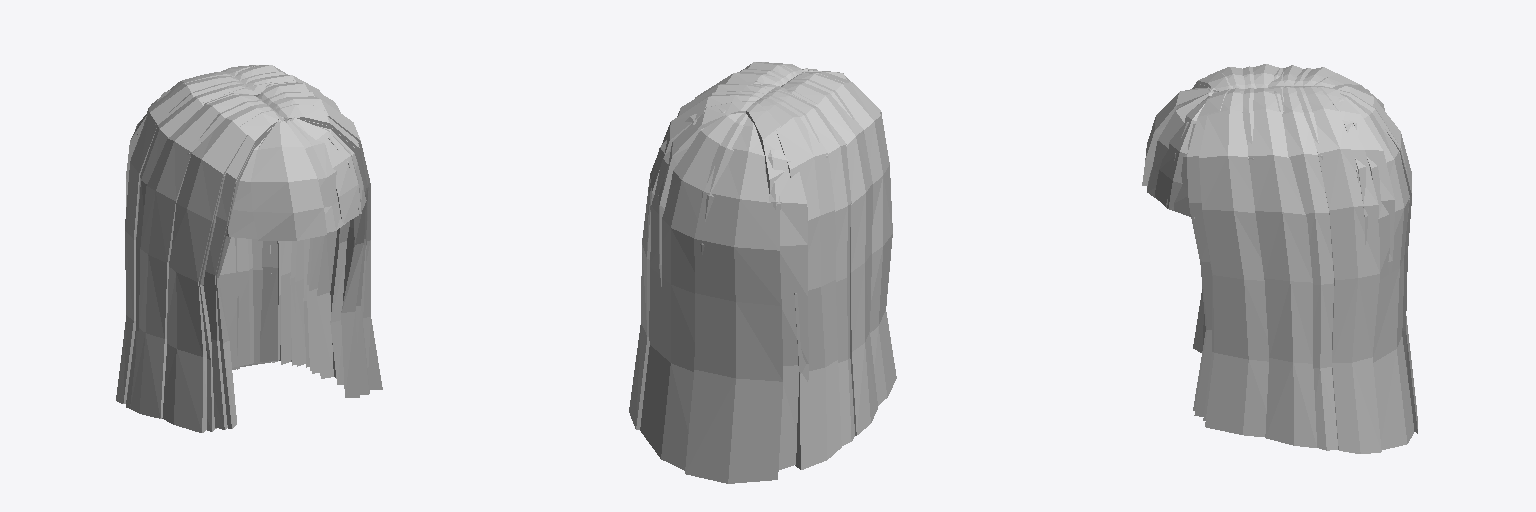
The picture shows the model from 3 angles: view 1: azimuth 30°, elevation 25°; view 2: azimuth 150°, elevation 25°; view 3: azimuth 270°, elevation 25°; orthographic projection.
Visible parts, largest first — view 1: T6; view 2: T6; view 3: T6.
Boxes of the visible parts, box(x1,y1,x2,y2) form: T6: box(116, 65, 382, 432); T6: box(629, 62, 896, 483); T6: box(1142, 64, 1417, 453).
Size of the model in its own units: 0.0877 by 0.1311 by 0.0955.